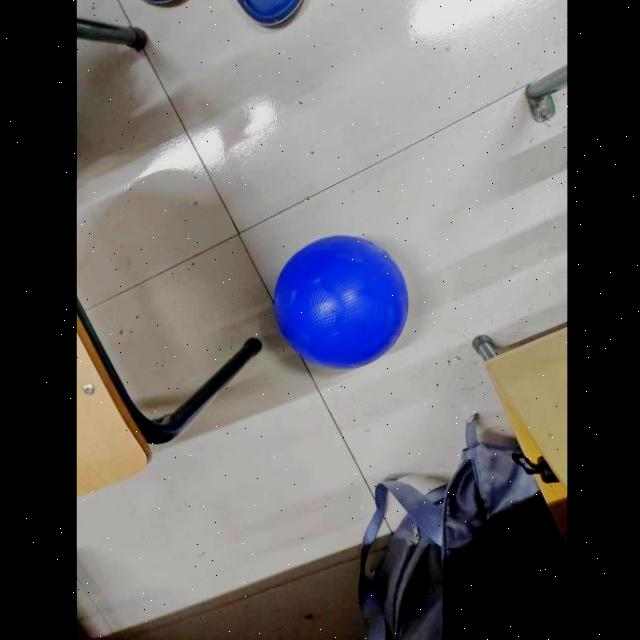B: (270, 234, 412, 376)
